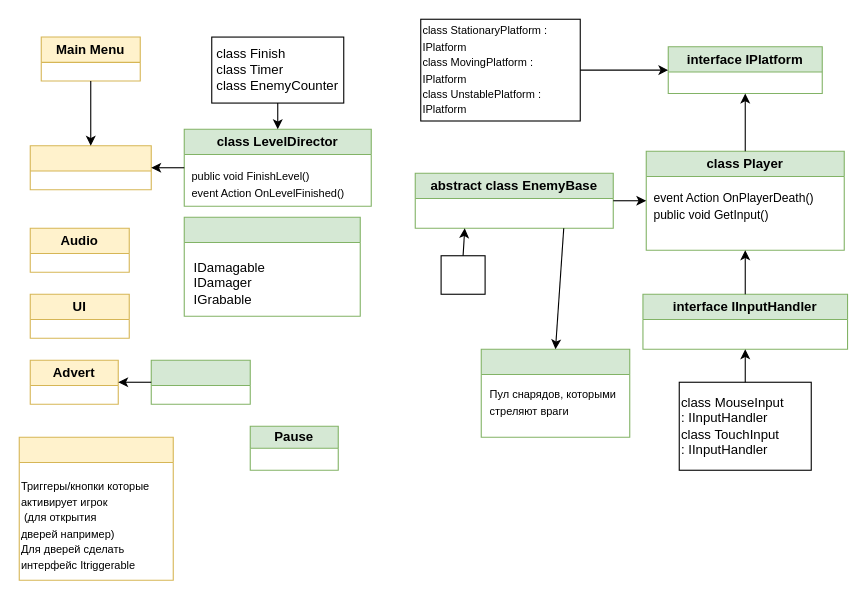
Some shapes in this 867 by 600 pixel diagram are drawn without their labels. The shapes that lost their labels are listed below. From the top down, each one's box as (x1, y1, x2, y2) in pixels, then its label:
(29, 145, 151, 190): Save System
(183, 216, 360, 316): Общие интерфейсы
(440, 255, 485, 294): враги
(150, 359, 250, 404): Game Over
(480, 348, 630, 437): Projectile pool
(18, 436, 173, 580): Triggers
